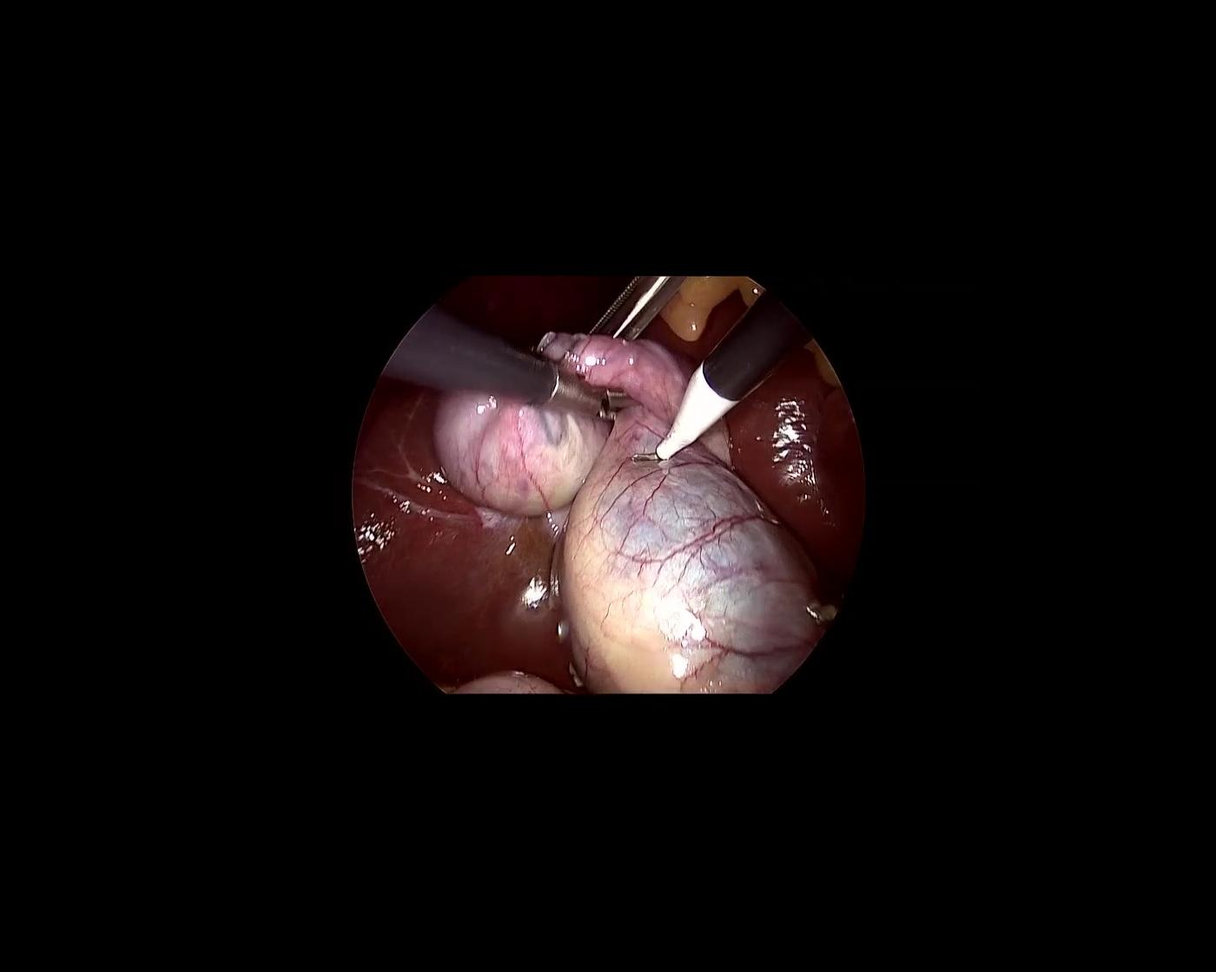Cautery: (617, 291, 815, 495)
Forceps: (386, 302, 651, 464), (586, 248, 688, 359)
Gallbladder: (408, 277, 860, 780)
Liver: (295, 349, 626, 738), (700, 348, 934, 586)
